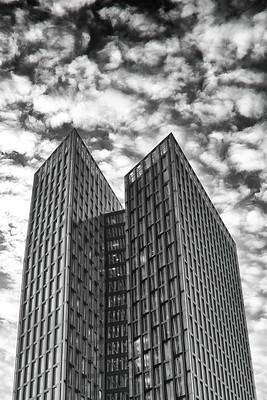building: (121, 129, 260, 400), (8, 127, 130, 400)
